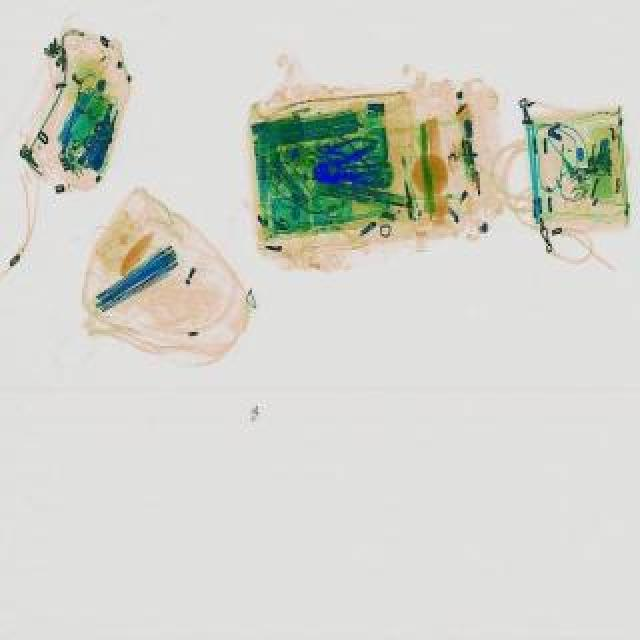wrench: (306, 146, 386, 194), (310, 156, 382, 200), (314, 142, 380, 166)
